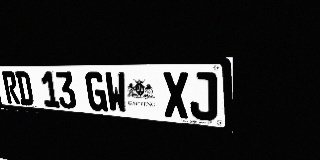1: (40, 71, 60, 108)
3: (55, 71, 77, 109)
D: (15, 71, 34, 106)
G: (85, 72, 108, 112)
J: (189, 72, 218, 121)
R: (2, 71, 20, 104)
W: (104, 72, 128, 114)
X: (162, 72, 190, 119)
